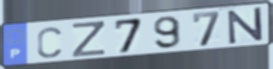7: (190, 9, 222, 48), (113, 17, 144, 55)
9: (152, 15, 183, 50)
C: (36, 26, 64, 60)
N: (226, 6, 265, 46)
Z: (71, 20, 108, 58)
